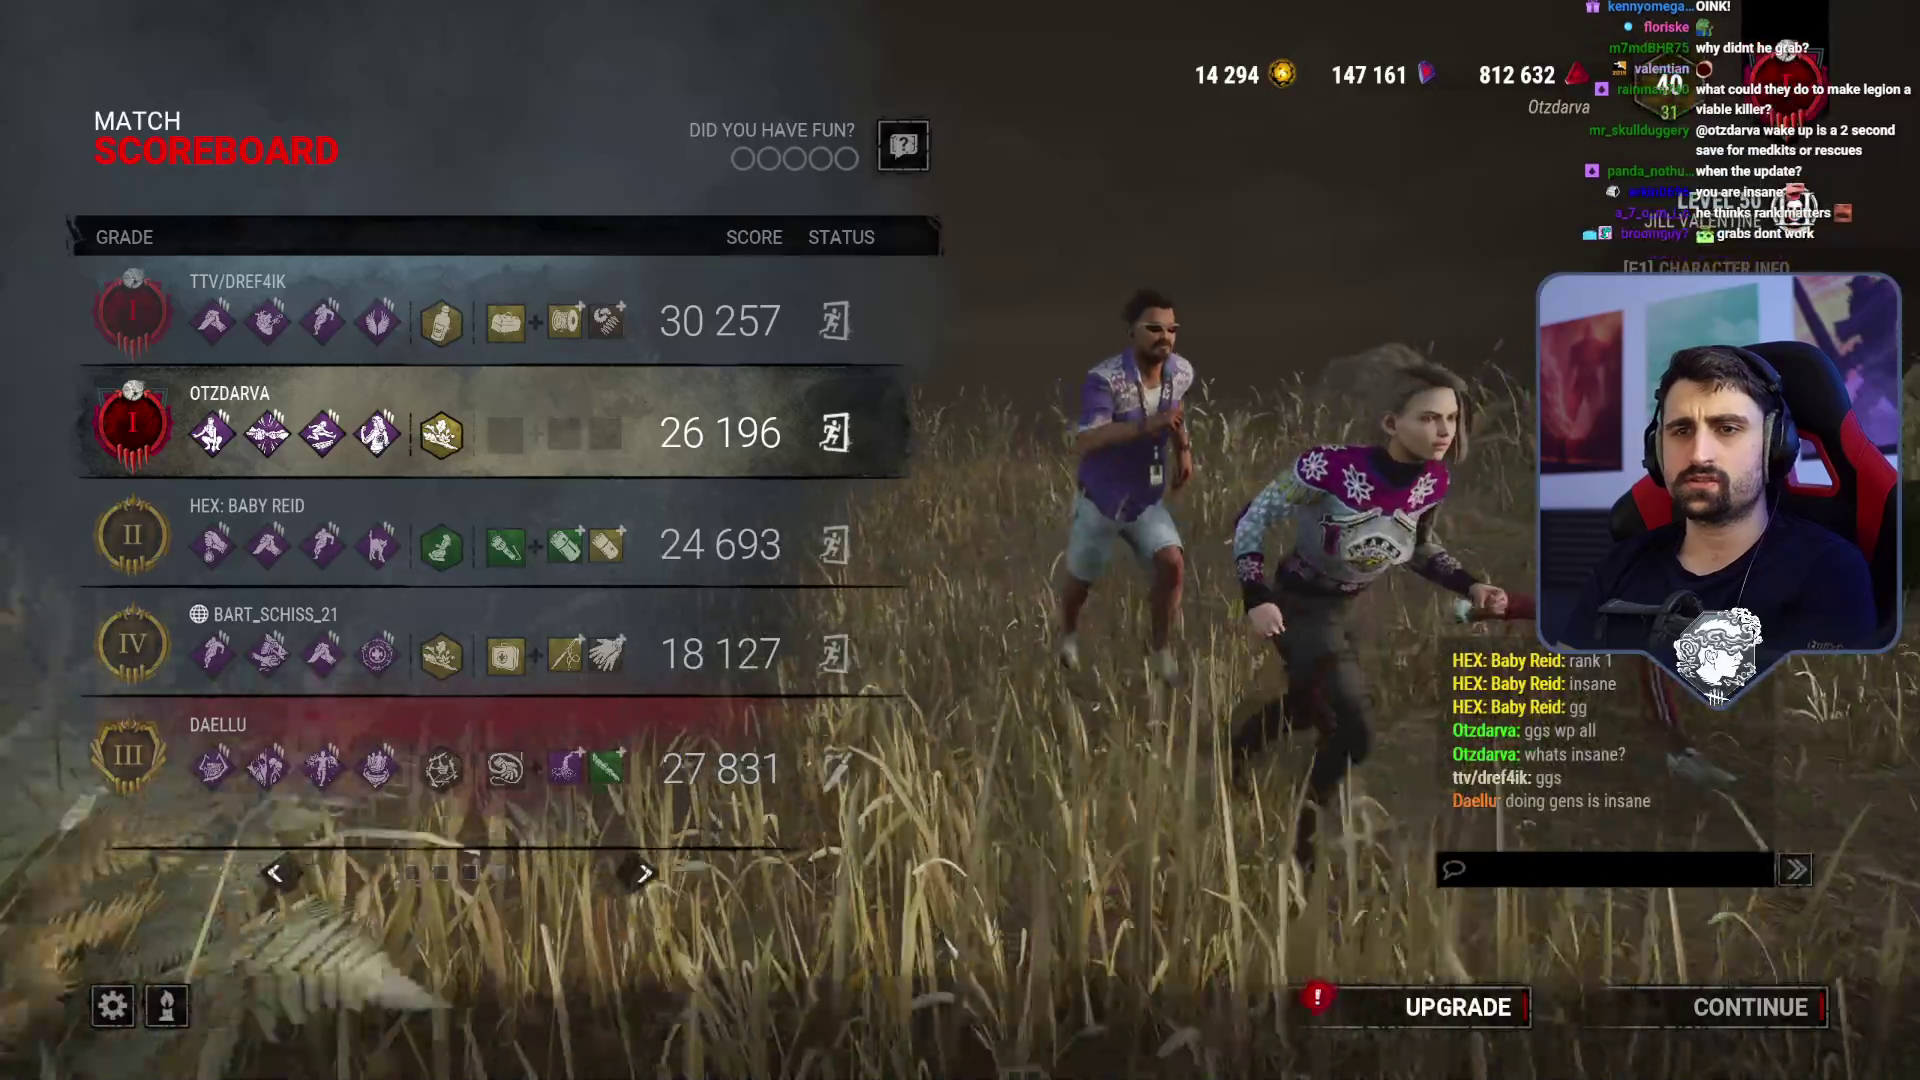adrenaline: (243, 298, 289, 345)
any_means_necessary: (353, 410, 400, 458)
bbq_and_chilli: (352, 741, 400, 789)
borrowed_time: (190, 522, 237, 570)
circle_of_healing: (355, 630, 402, 678)
dead_hard: (298, 521, 345, 568), (299, 298, 345, 345), (189, 630, 235, 678)
decisive_strike: (190, 299, 237, 347), (297, 629, 344, 676), (245, 522, 291, 570)
hex:ruin: (185, 742, 232, 790)
hex:undying: (245, 741, 291, 789)
hope: (353, 297, 401, 345)
lethal_pursuer: (299, 741, 345, 789)
lithe: (299, 409, 345, 458)
power_struggle: (244, 410, 291, 458)
quick_and_quiet: (189, 409, 235, 458)
red_herring: (243, 632, 289, 679)
spine_chill: (356, 522, 404, 570)
